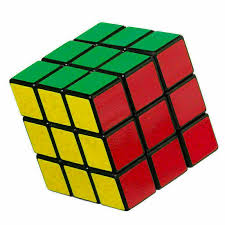cube: (7, 19, 221, 213)
